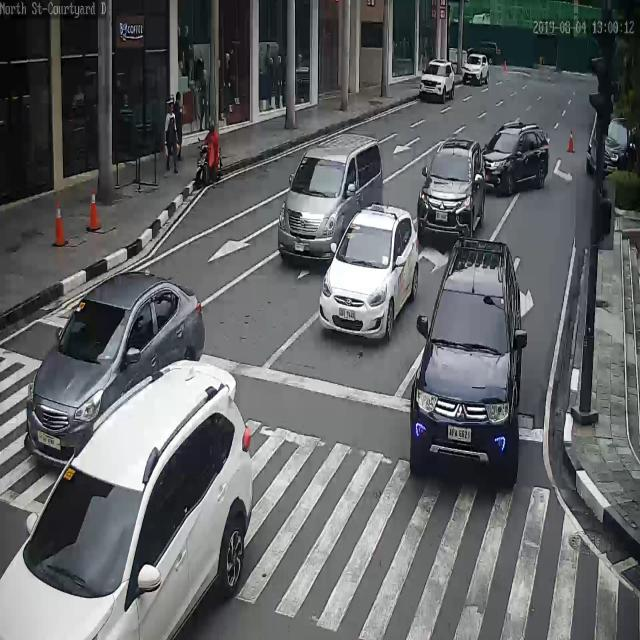car: (0, 359, 254, 640), (26, 269, 204, 468), (408, 238, 525, 488), (320, 205, 420, 341), (415, 138, 484, 246), (482, 122, 550, 198), (587, 115, 640, 178), (420, 59, 457, 103), (461, 53, 490, 86)
jeepney: (197, 120, 222, 189)
van: (277, 131, 385, 267)
